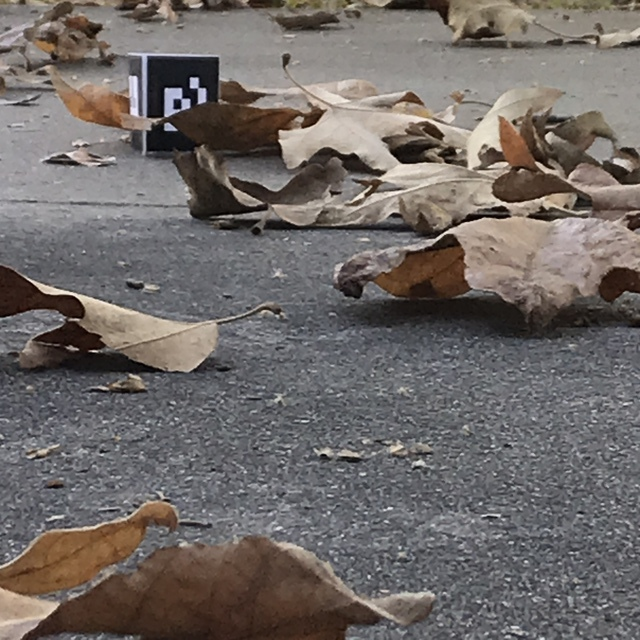ARTag: (127, 51, 223, 156)
